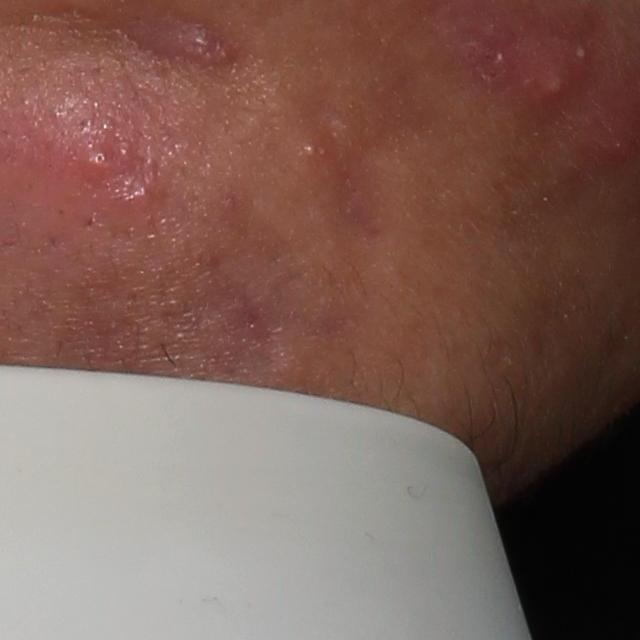papule: (158, 19, 238, 68), (74, 136, 119, 182), (105, 174, 149, 220)
pustule: (506, 36, 607, 116)
